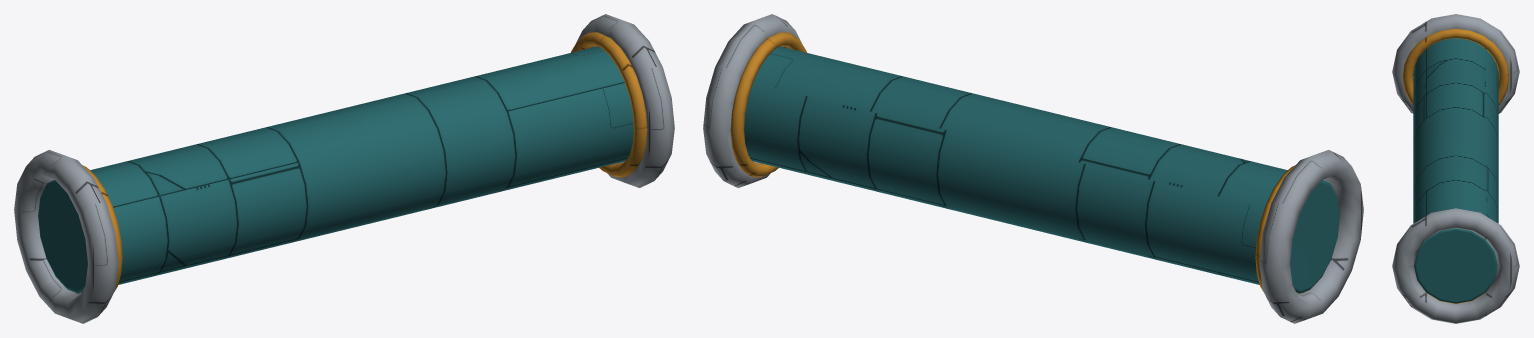
Rendered from pressure_pipe_straight_lod0.glb.
The picture shows the model from 3 angles, left to right: view 1: azimuth 30°, elevation 25°; view 2: azimuth 150°, elevation 25°; view 3: azimuth 270°, elevation 25°; orthographic projection. The views are drawn at different scales.
Visible parts, largest first — view 1: LOD0_Armor, LOD0_BrushedMetal, LOD0_Livery; view 2: LOD0_Armor, LOD0_BrushedMetal, LOD0_Livery; view 3: LOD0_Armor, LOD0_BrushedMetal, LOD0_Livery.
Boxes of the visible parts, x1=… form: LOD0_Armor: x1=38, y1=46, x2=633, y2=293; LOD0_BrushedMetal: x1=14, y1=14, x2=674, y2=323; LOD0_Livery: x1=76, y1=32, x2=647, y2=293; LOD0_Armor: x1=744, y1=46, x2=1339, y2=293; LOD0_BrushedMetal: x1=703, y1=14, x2=1363, y2=323; LOD0_Livery: x1=730, y1=32, x2=1301, y2=293; LOD0_Armor: x1=1413, y1=38, x2=1498, y2=303; LOD0_BrushedMetal: x1=1392, y1=14, x2=1519, y2=323; LOD0_Livery: x1=1402, y1=28, x2=1509, y2=303.
Size of the model in its own units: 4.16 by 1.11 by 1.11.
3 materials, 3 textured.
